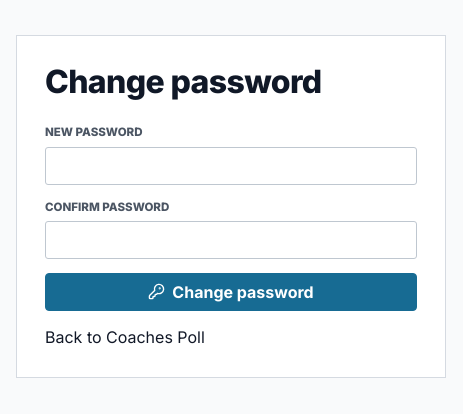
it: ChangePasswordPage › shows server errors and allows a retry
The image size is (463, 414).
Type "new-password" into the password field labelled "New password" at (231, 166), box [45,147,417,185]
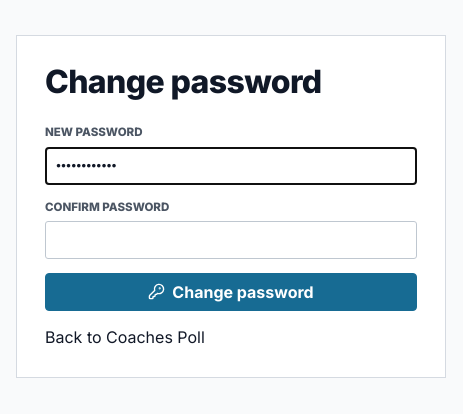
Type "new-password" into the password field labelled "Confirm password" at (231, 240), box [45,221,417,259]
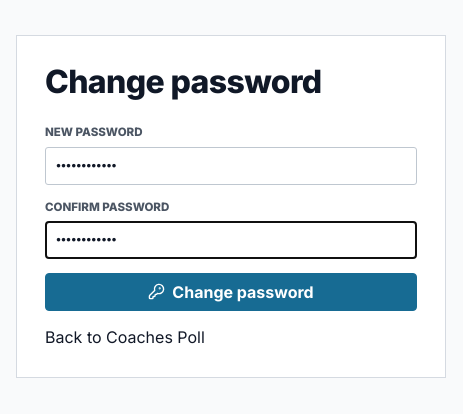
Click the button "Change password" at (231, 292), box [45,273,417,311]
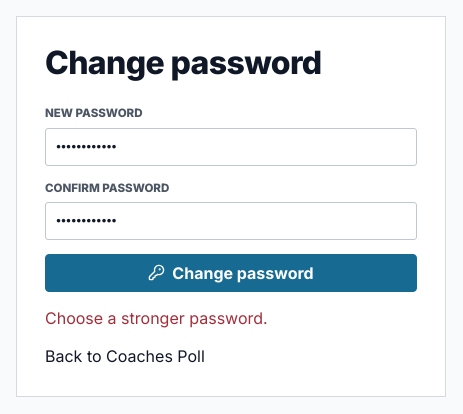
Expected: the button "Change password" is enabled, [45,254,417,292]
Now the message shows "Choose a stronger password", box [45,308,268,328]
